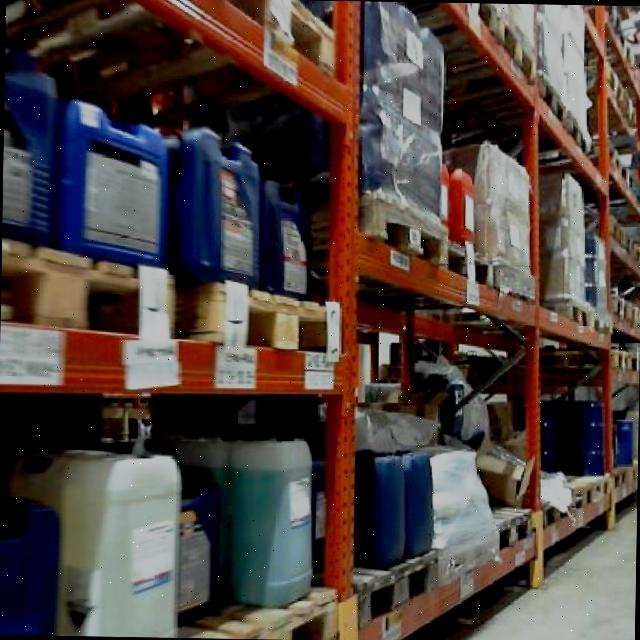ground: (387, 476, 635, 640)
pallet: (319, 0, 640, 640), (178, 582, 342, 639)
